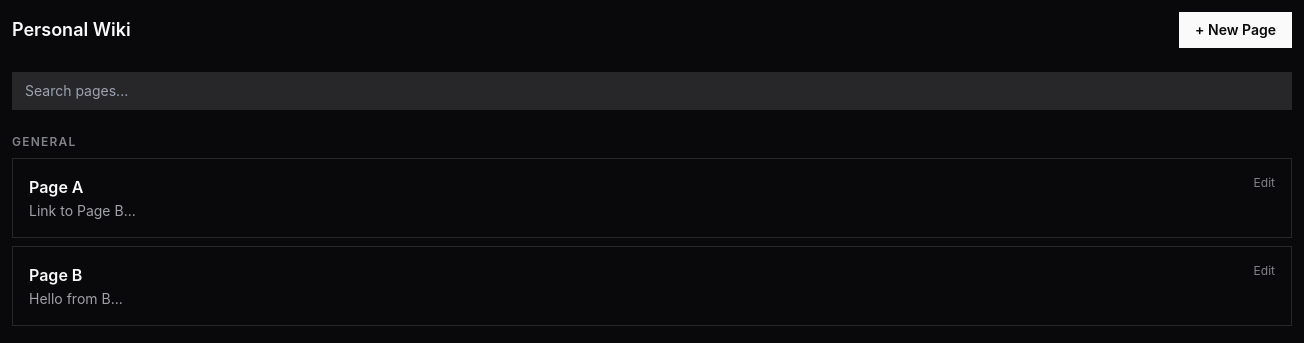
Test: WikiPage › navigates wiki links via data-wiki-id click delegation (not window global)
Note: Click on Page A to enter read view
Click the text "Page A" at (56, 187), box [29,177,84,197]
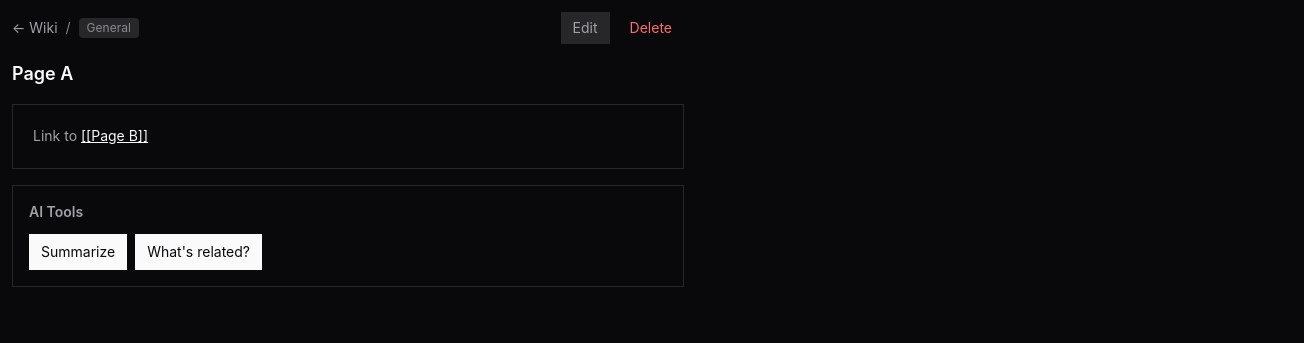
Expected: the heading "Page A" is shown, [12,63,73,84]
Expected: the button "[ [Page B]]" is shown
Note: Click the wiki link
Click the button "[ [Page B]]" at (115, 136), box [81,125,148,148]
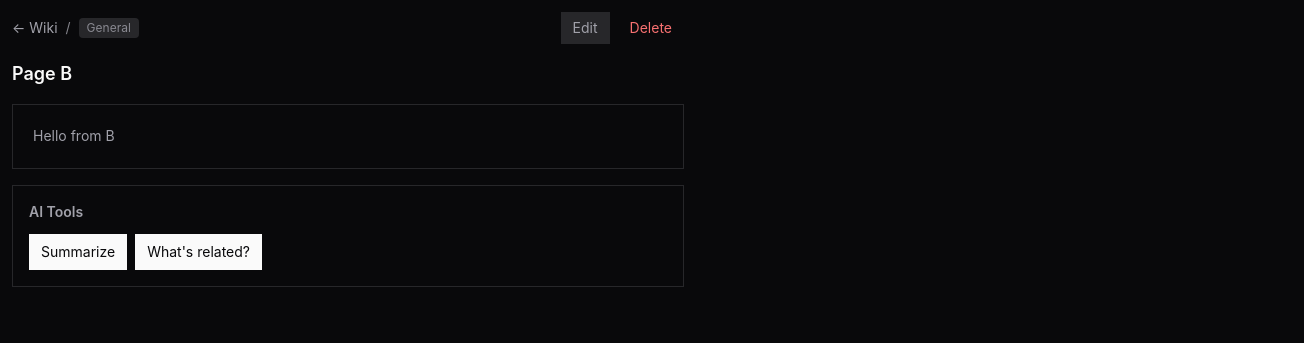
Expected: the heading "Page B" is shown, [12,63,72,84]
